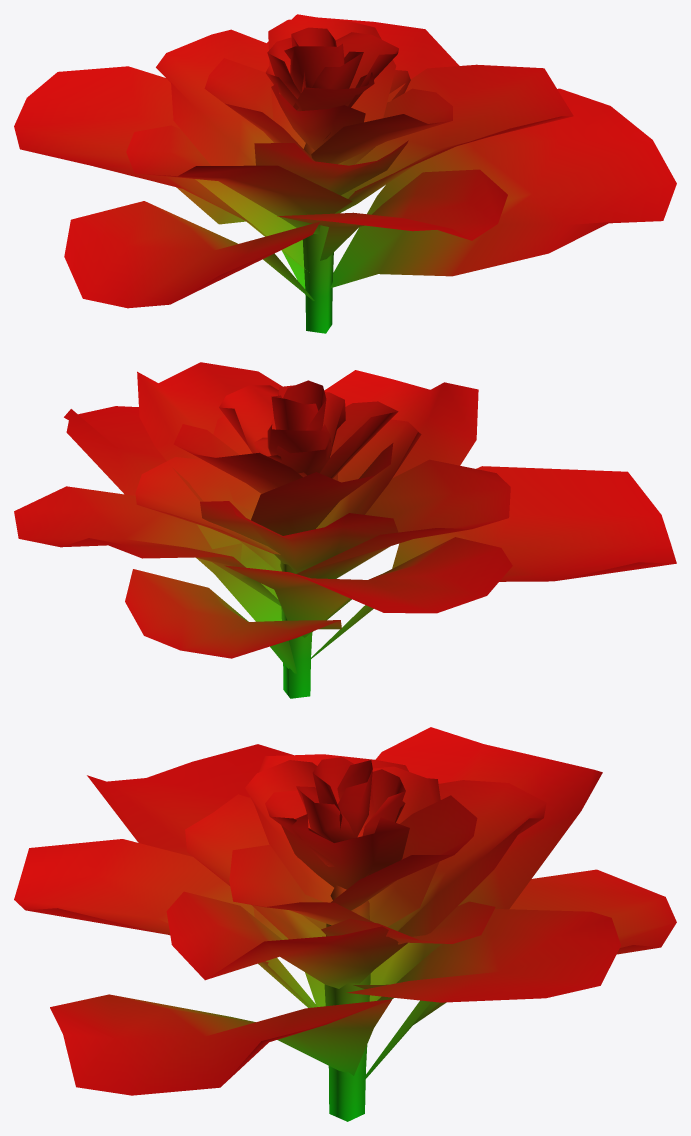
The model's file is Purple Ornamental Kale_LOD3_Var7_ugdieawja.fbx.
The picture shows the model from 3 angles, top to bottom: view 1: azimuth 30°, elevation 25°; view 2: azimuth 150°, elevation 25°; view 3: azimuth 270°, elevation 25°; orthographic projection. The views are drawn at different scales.
Visible parts, largest first — view 1: _7a02_Var7_LOD3; view 2: _7a02_Var7_LOD3; view 3: _7a02_Var7_LOD3.
Part boxes in pixels (x1,y1,x2,y2): _7a02_Var7_LOD3: [14, 14, 676, 333]; _7a02_Var7_LOD3: [14, 362, 676, 698]; _7a02_Var7_LOD3: [14, 727, 676, 1121].
Size of the model in its own units: 41.65 by 20.04 by 34.76.
